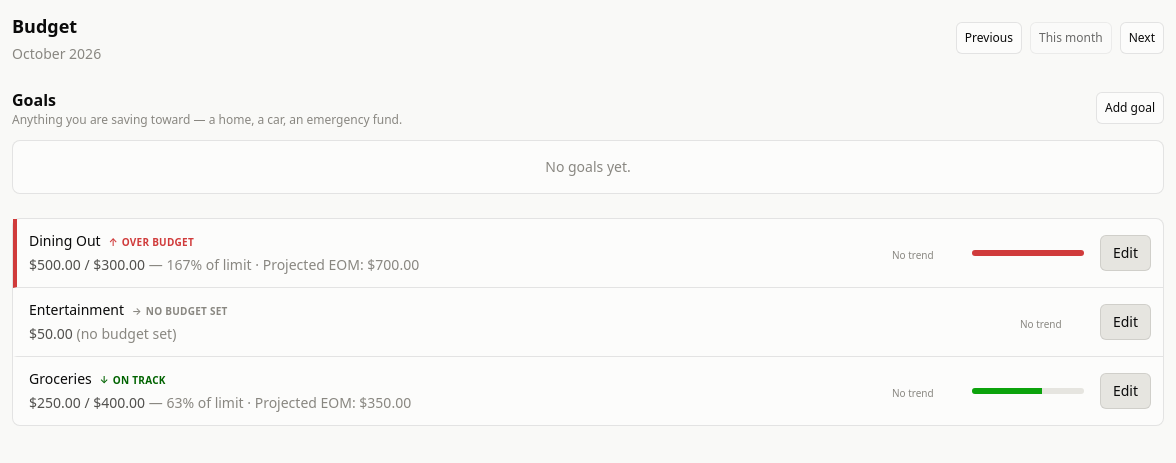
Test: BudgetTab › opens edit form when Edit button is clicked
The width and height of the screenshot is (1176, 463).
What coordinates should you click on to do the following:
click the button "Edit" in the row of "$350.00"
I would click on:
 (1125, 391)
Its box is [1100,373,1151,409].
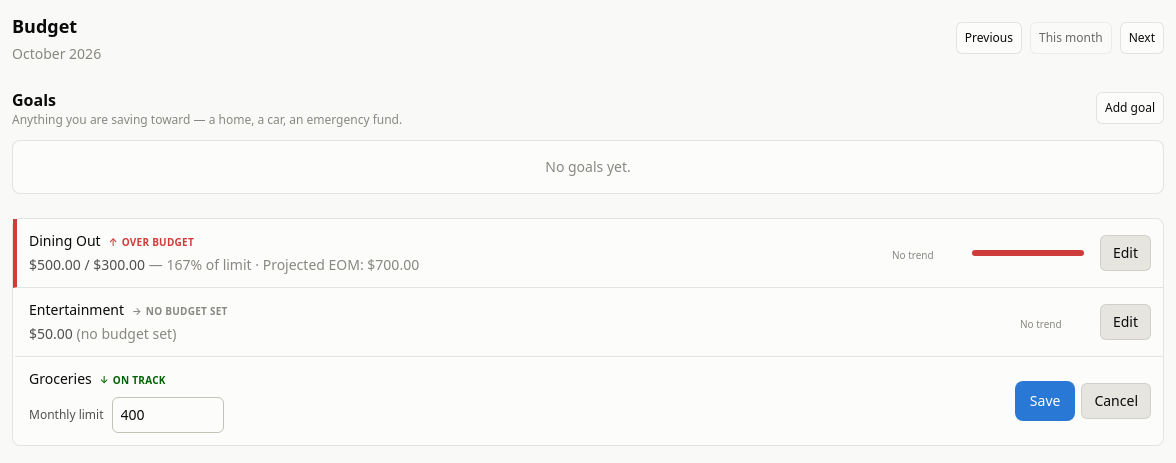
expect the number field showing "400" is shown: met, box [112,397,224,433]
expect the button "Save" is shown: met, box [1017,383,1073,419]
expect the button "Cancel" is shown: met, box [1081,383,1151,419]
